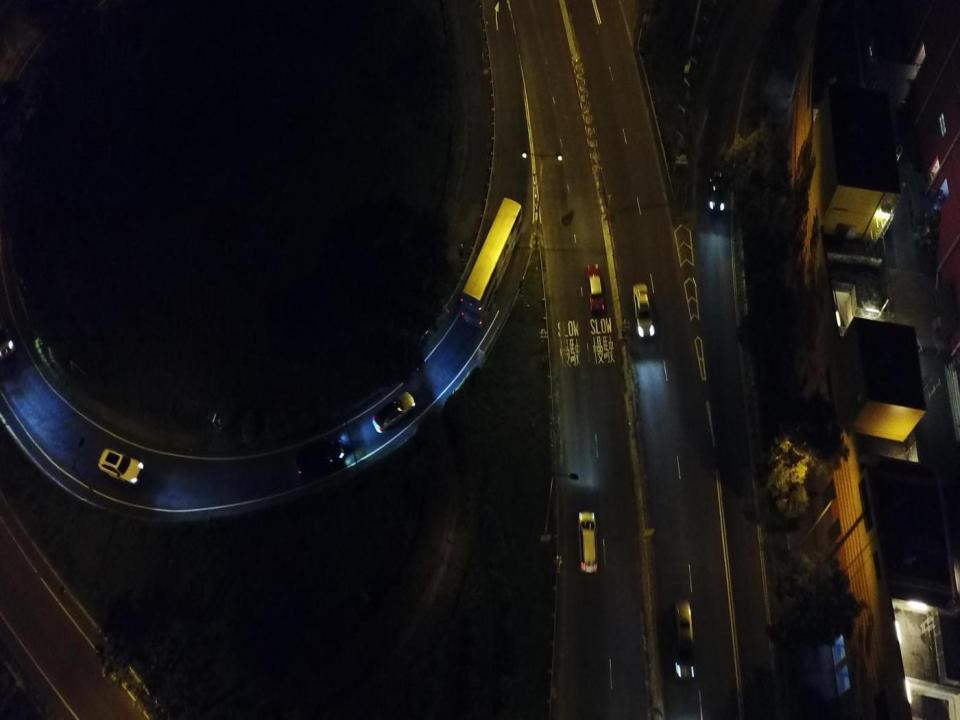bus: (460, 197, 523, 330)
car: (372, 390, 416, 433), (98, 448, 145, 488), (577, 510, 598, 573), (632, 282, 655, 338), (586, 264, 604, 313), (709, 169, 725, 214)
van: (295, 436, 345, 480), (671, 598, 696, 682)
